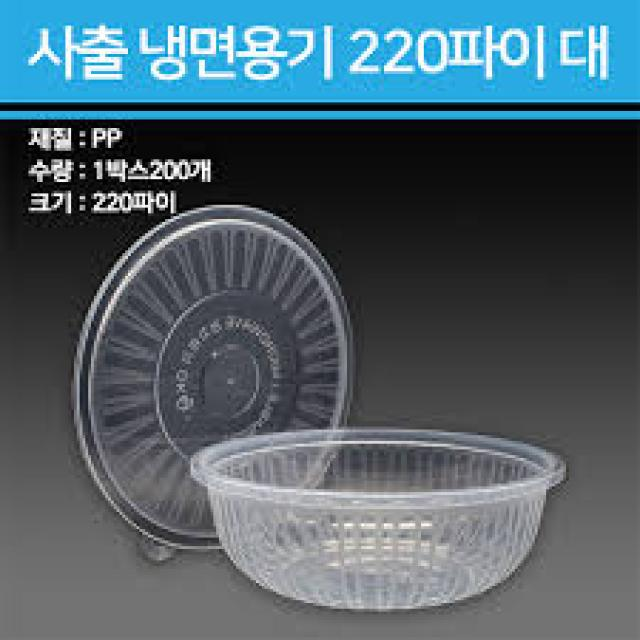disposable: (182, 403, 567, 622)
